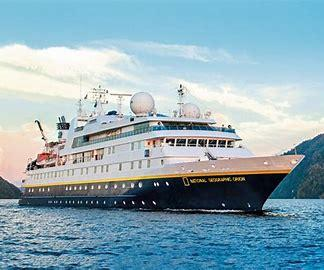Ship: (21, 90, 304, 213)
